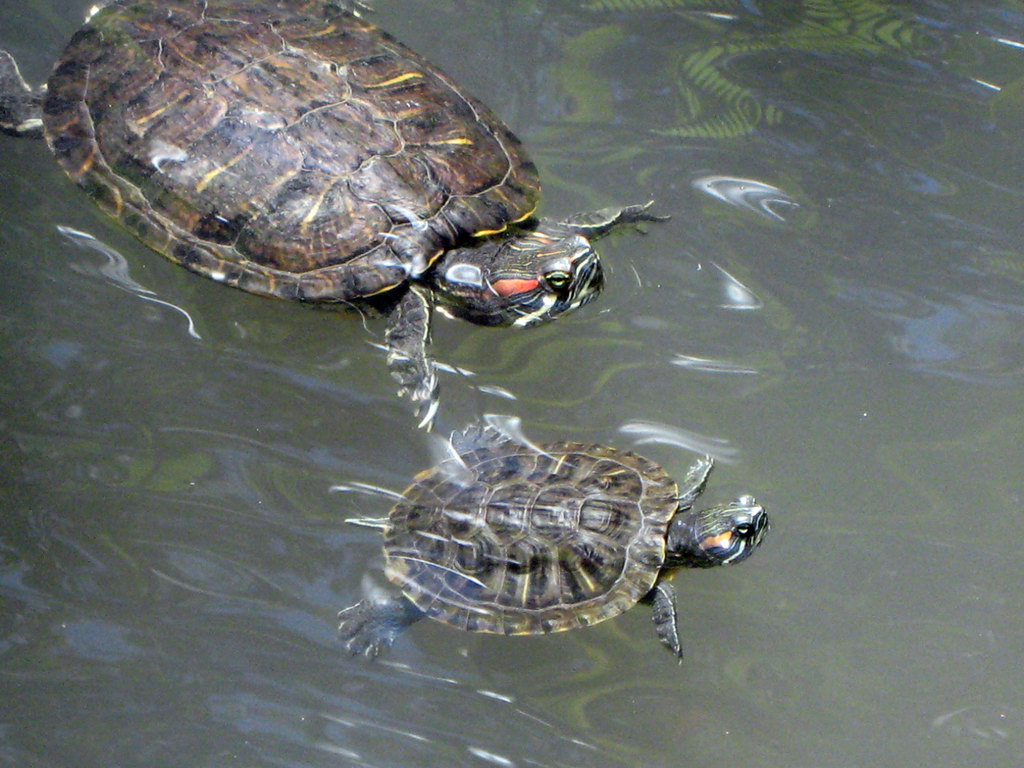Sea turtles: (0, 0, 672, 436), (328, 414, 773, 669)
